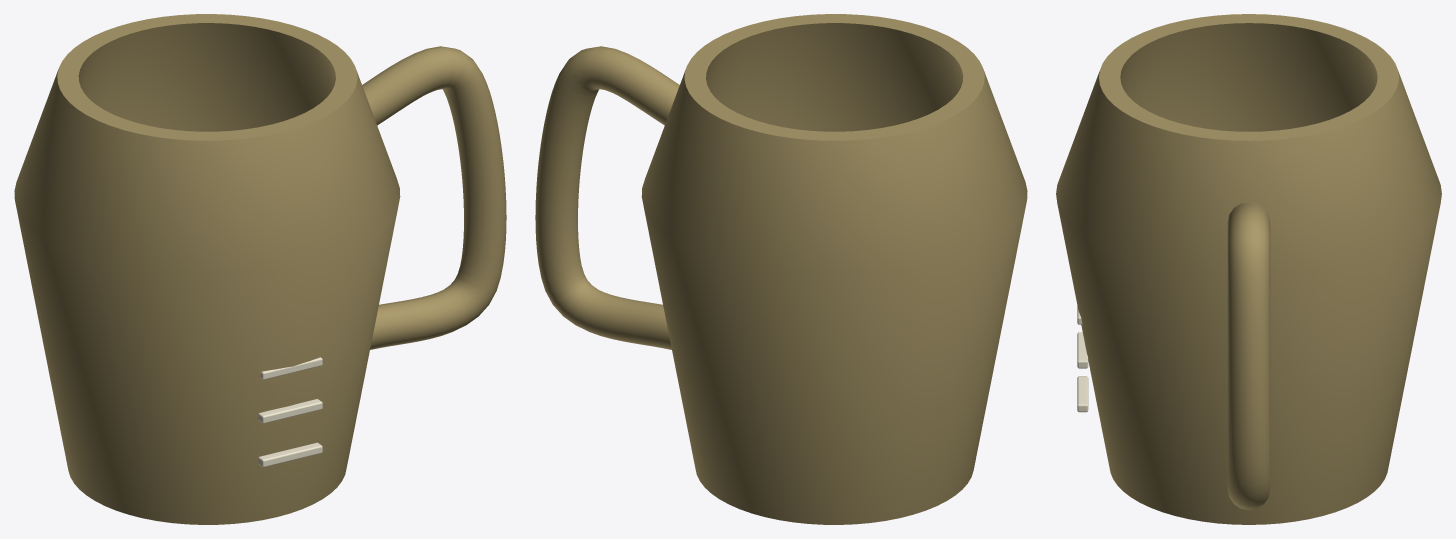
File: water-clock-garden-and-hydraulic-puzzles-graduated-cal-dde10cc0__31961.glb
The picture shows the model from 3 angles, left to right: view 1: azimuth 30°, elevation 25°; view 2: azimuth 150°, elevation 25°; view 3: azimuth 270°, elevation 25°; orthographic projection.
Visible parts, largest first — view 1: graduated-calibration-pitcher; view 2: graduated-calibration-pitcher; view 3: graduated-calibration-pitcher.
Boxes of the visible parts, x1,y1,x2,y2 form: graduated-calibration-pitcher: (14, 14, 506, 524); graduated-calibration-pitcher: (535, 14, 1027, 524); graduated-calibration-pitcher: (1056, 14, 1441, 524).
Bounding box in the file's own units: 0.4993 × 0.4 × 0.36.
